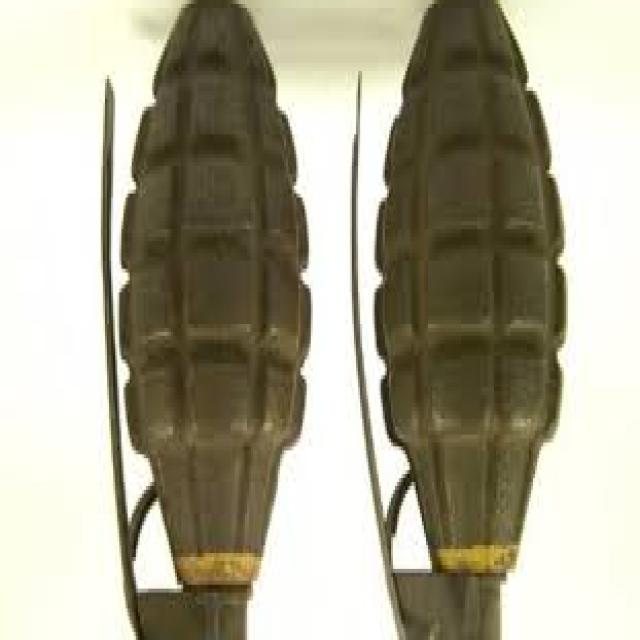grenade: (345, 1, 573, 640), (97, 1, 316, 640)
